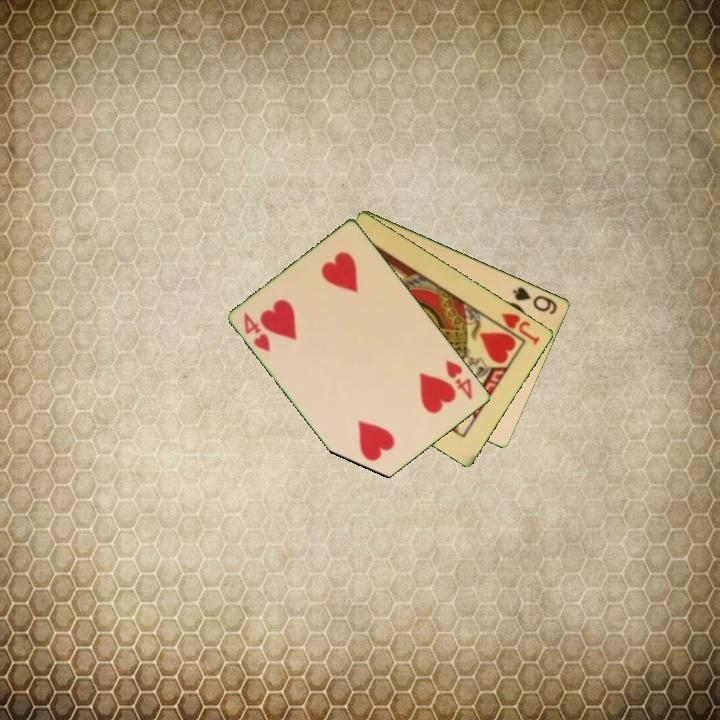4h: (442, 357, 476, 403), (240, 309, 274, 355)
6s: (509, 283, 560, 317)
Jh: (498, 309, 543, 348)
